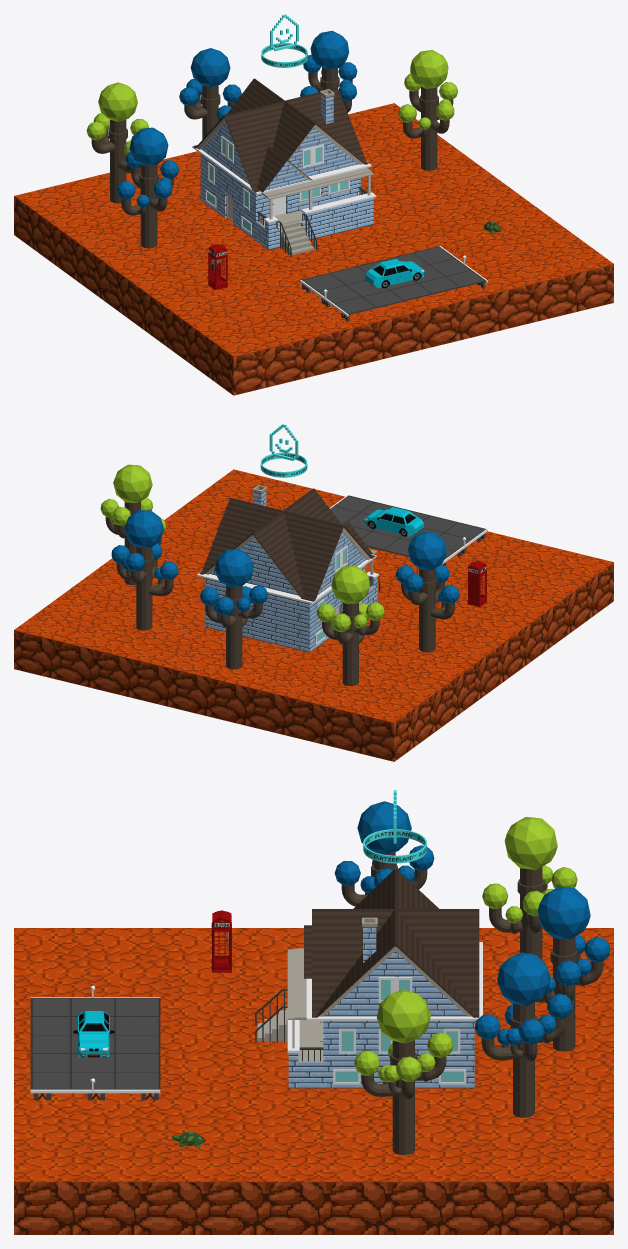
The picture shows the model from 3 angles, top to bottom: view 1: azimuth 30°, elevation 25°; view 2: azimuth 150°, elevation 25°; view 3: azimuth 270°, elevation 25°; orthographic projection. The views are drawn at different scales.
Visible parts, largest first — view 1: Cube.001, Cube.547, VEHICLES_CAR, TYPE_PREMIUM, OBJRANDOM_PHONEBOOTH; view 2: Cube.001, Cube.547, VEHICLES_CAR, TYPE_PREMIUM, OBJRANDOM_PHONEBOOTH; view 3: Cube.001, Cube.547, VEHICLES_CAR, TYPE_PREMIUM, OBJRANDOM_PHONEBOOTH.
Boxes of the visible parts, x1,y1,x2,y2 form: Cube.001: (14, 30, 613, 395); Cube.547: (192, 78, 376, 256); VEHICLES_CAR: (364, 258, 424, 288); TYPE_PREMIUM: (261, 14, 307, 67); OBJRANDOM_PHONEBOOTH: (208, 244, 227, 290); Cube.001: (14, 464, 613, 761); Cube.547: (197, 485, 380, 652); VEHICLES_CAR: (364, 507, 424, 536); TYPE_PREMIUM: (260, 424, 307, 477); OBJRANDOM_PHONEBOOTH: (467, 561, 487, 607); Cube.001: (14, 801, 613, 1234); Cube.547: (255, 869, 482, 1088); VEHICLES_CAR: (73, 1011, 114, 1057); TYPE_PREMIUM: (363, 790, 426, 863); OBJRANDOM_PHONEBOOTH: (211, 910, 231, 972).
Bounding box in the file's own units: 4000 × 2426 × 4000.
46 materials, 6 textured.
